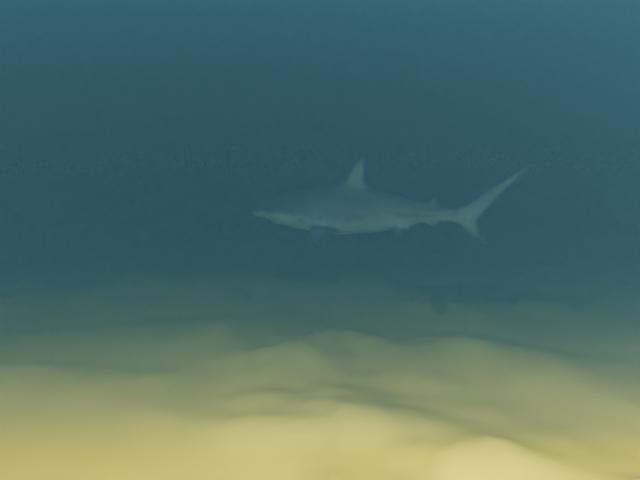Carribean Shark.001: (252, 157, 530, 249)
